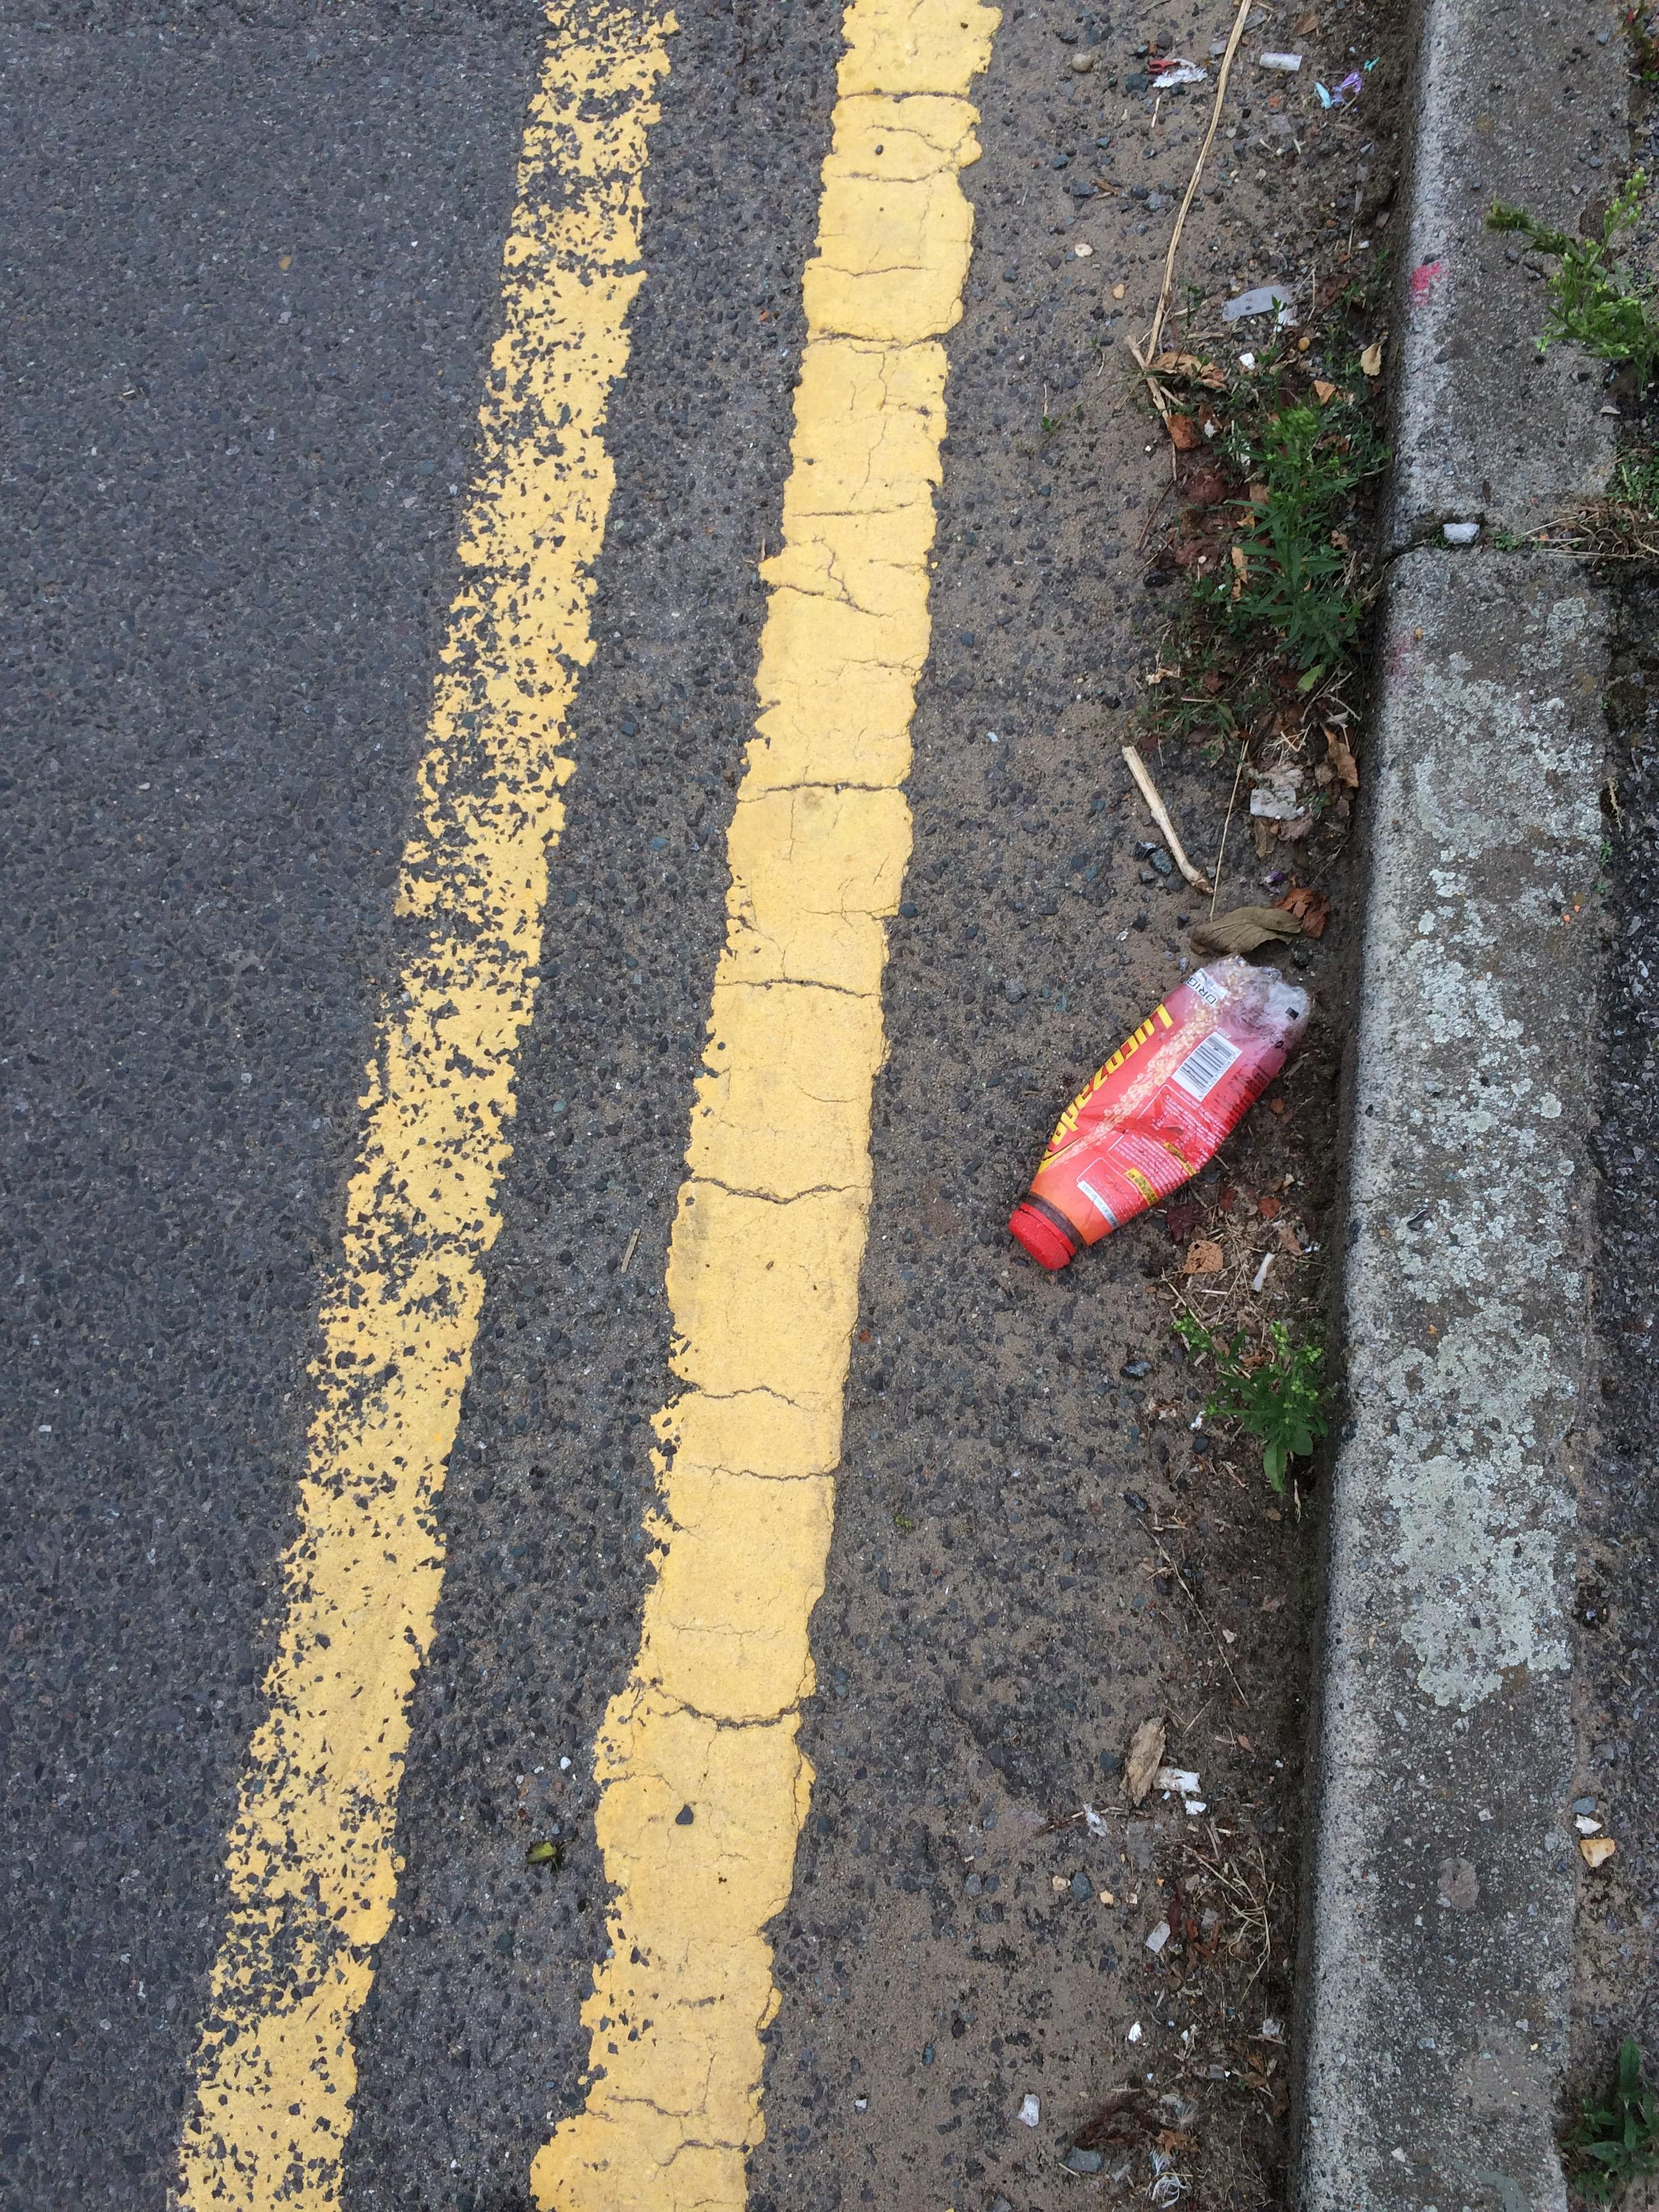Trash: (993, 949, 1314, 1273)
